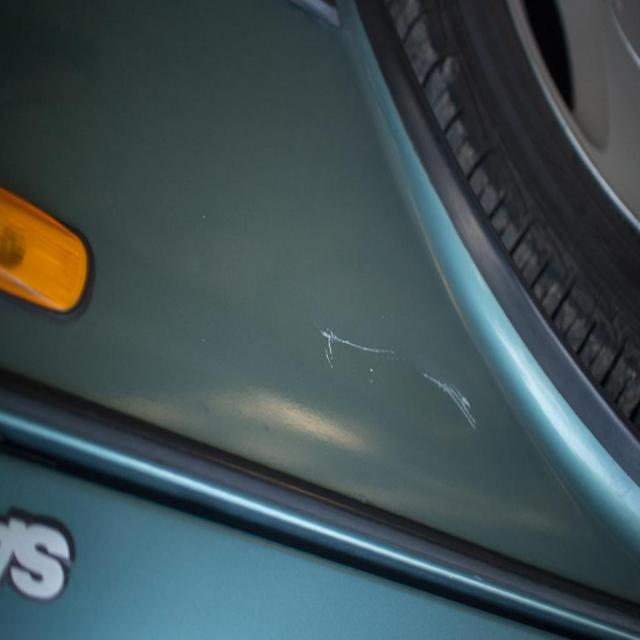scratch: (303, 306, 493, 470)
